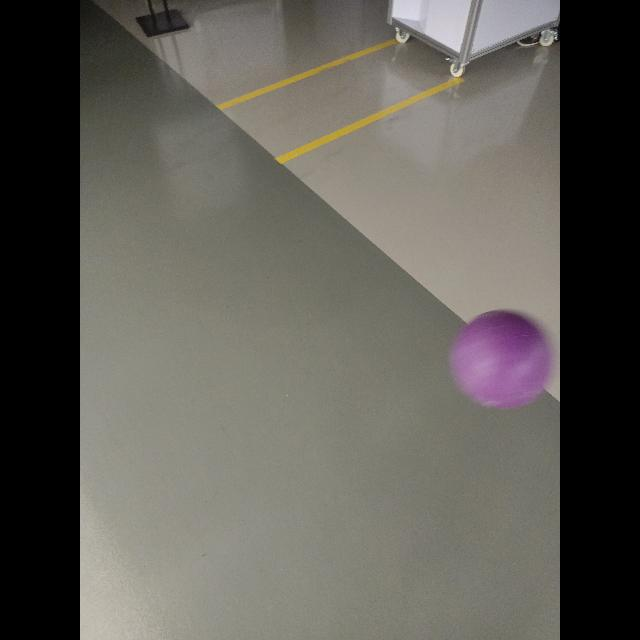P: (450, 312, 550, 404)
